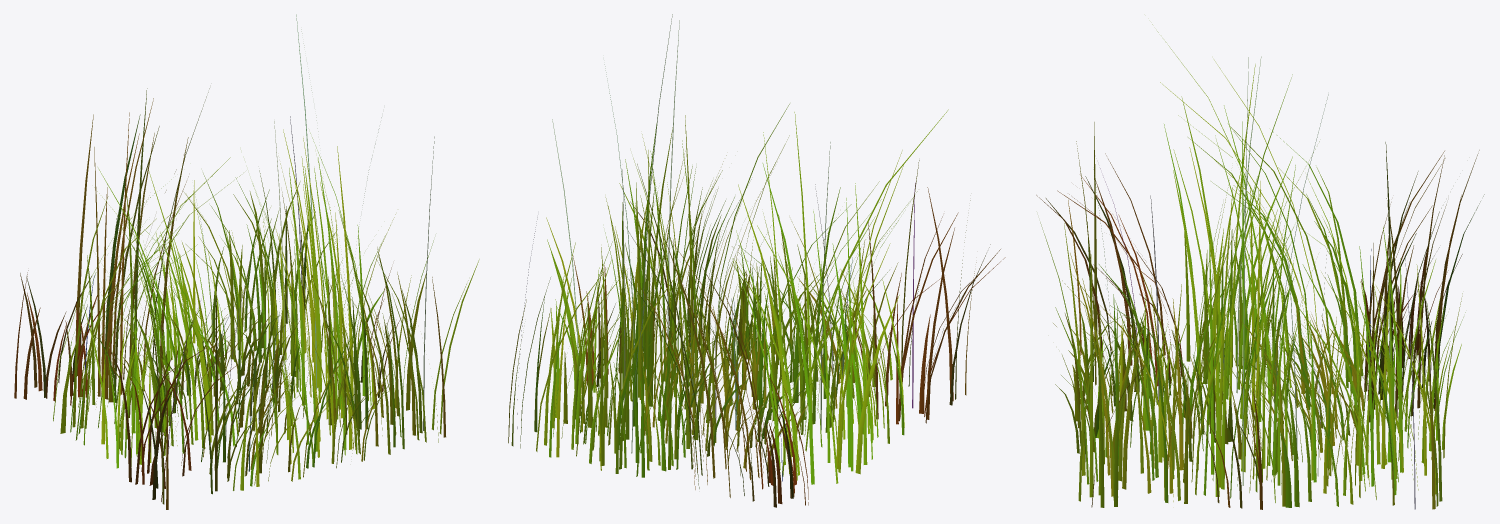
Rendered from grass.glb.
3 views of the same model, side by side, from view 1: azimuth 30°, elevation 25°; view 2: azimuth 150°, elevation 25°; view 3: azimuth 270°, elevation 25° (orthographic). The views are drawn at different scales.
Visible parts, largest first — view 1: grass; view 2: grass; view 3: grass.
Part boxes in pixels (<box>): grass: <box>14,14,479,509</box>; grass: <box>508,14,1005,507</box>; grass: <box>1036,24,1484,509</box>.
Bounding box in the file's own units: 0.6339 × 0.6223 × 0.6117.
